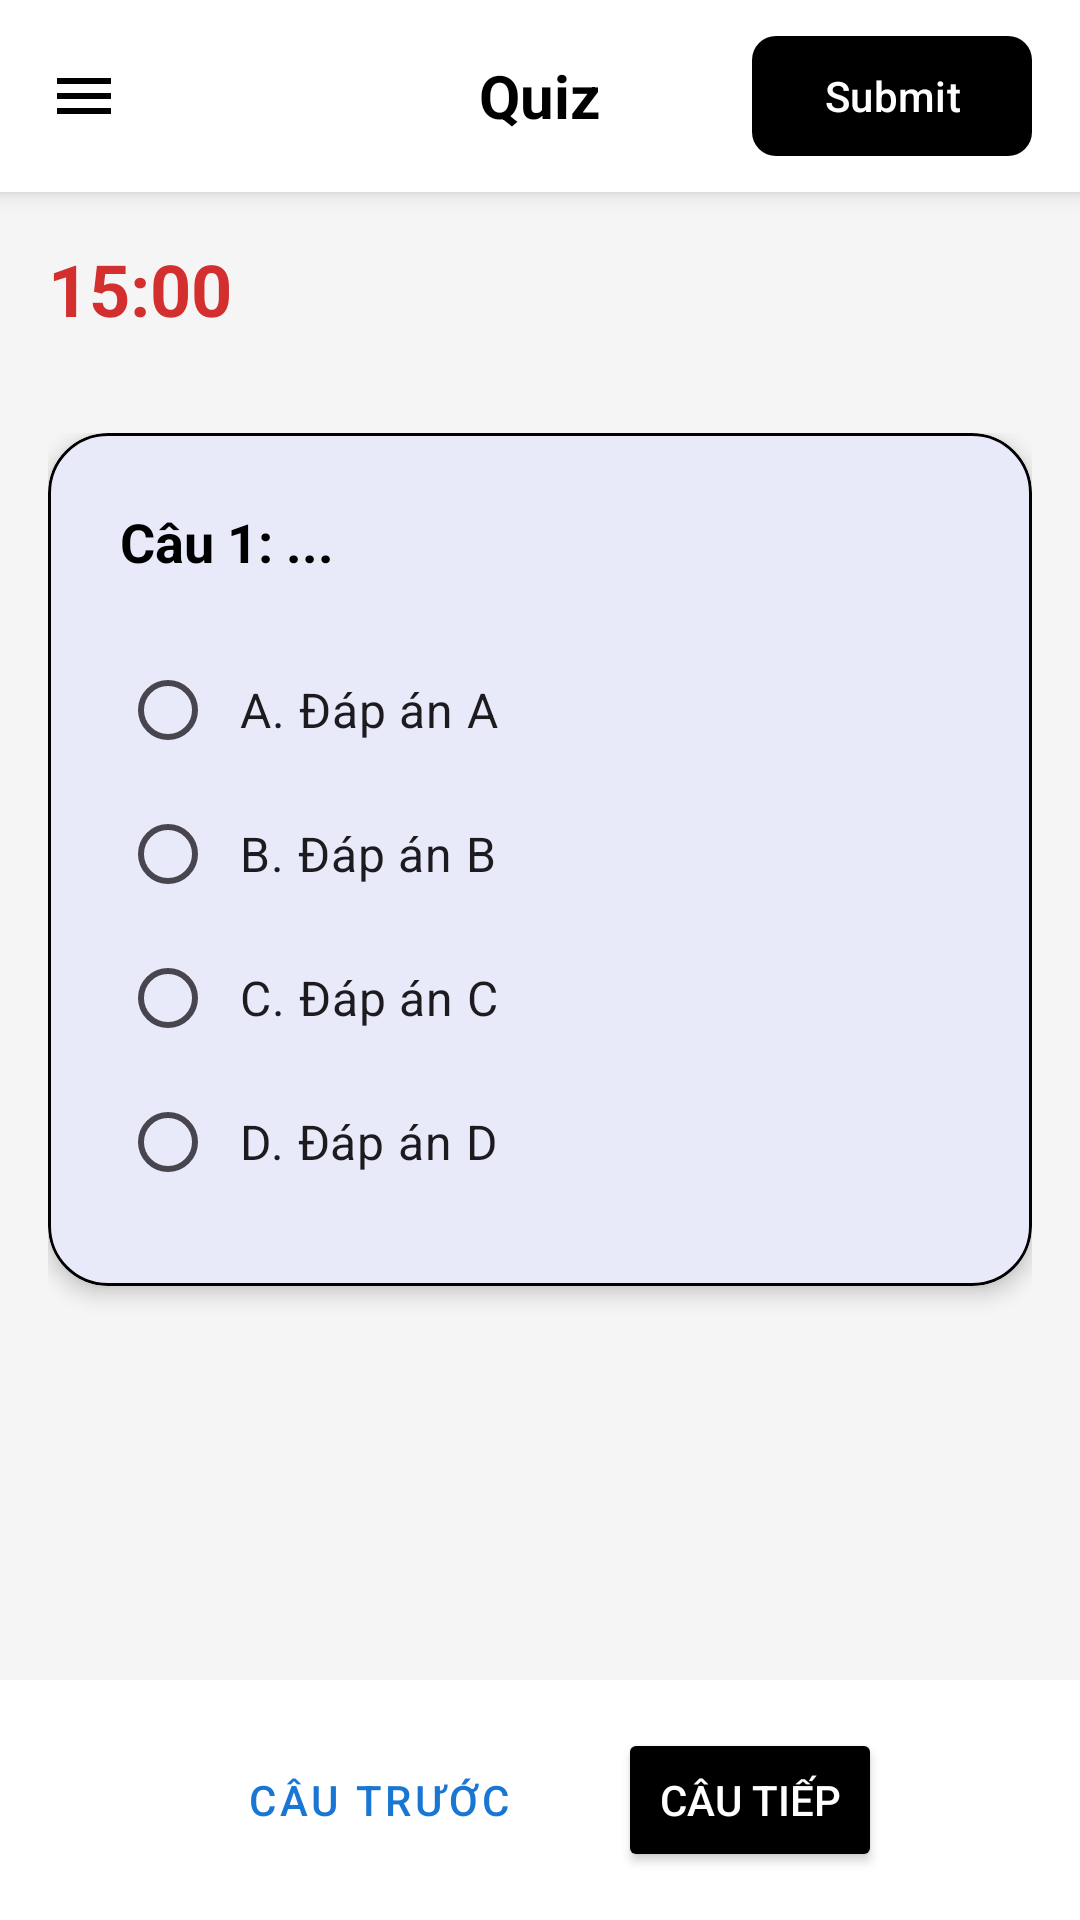

Screen size 1080x1920. Icon name, then its box in pixels as bbox(x1, y1, x2, y2):
menu: bbox(57, 78, 111, 114)
